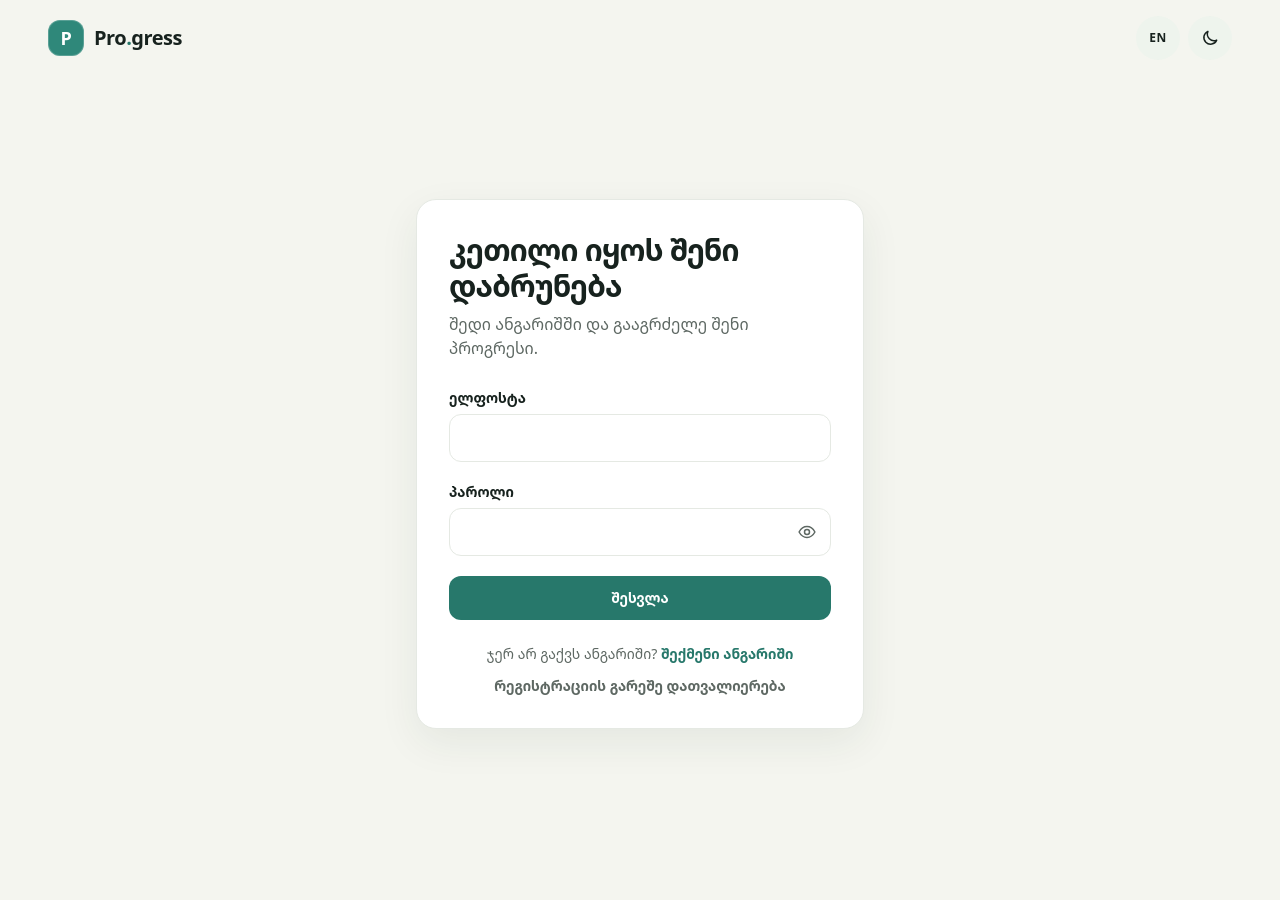
Test: sign in (US-2) › shows a generic error for wrong credentials
Expected: the heading "კეთილი იყოს შენი დაბრუნება" is shown, [449,229,739,306]
Type "giorgi@example.com" into the field labelled "ელფოსტა" at [640, 438], box [449,414,831,462]
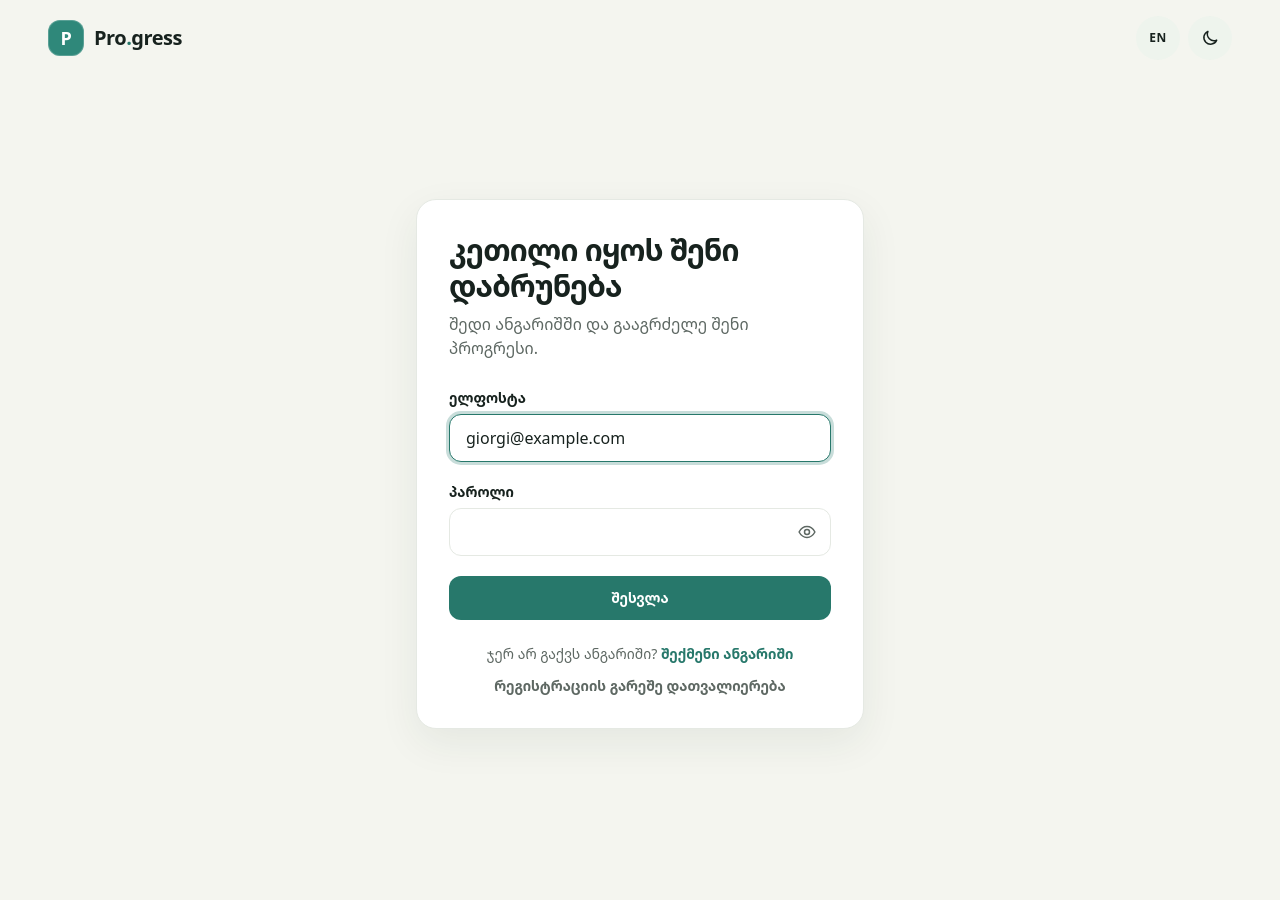
Type "wrong-pass1" into the password field labelled "პაროლი" at [640, 532], box [449,508,831,556]
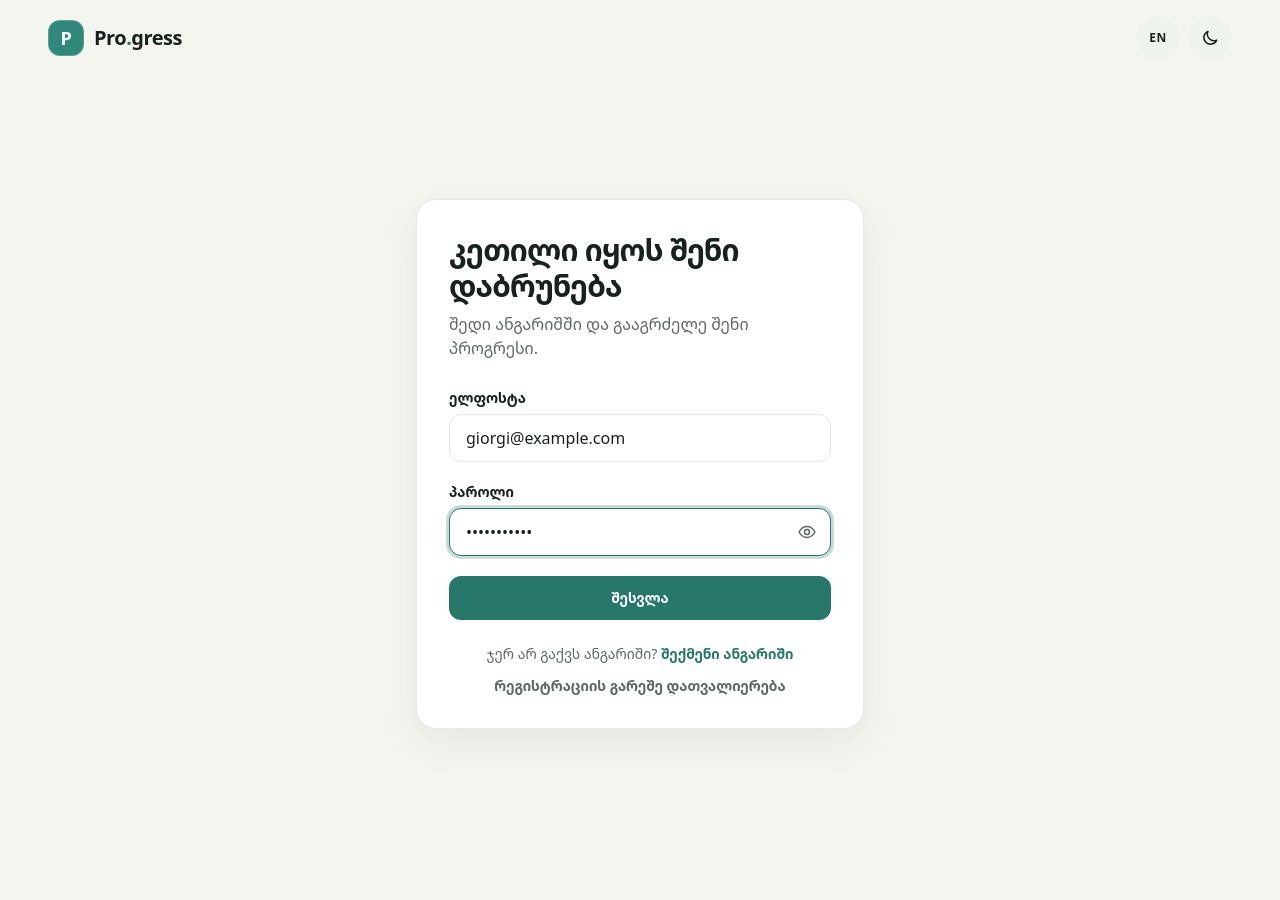
Click the button "შესვლა" at [640, 598], box [449,576,831,620]
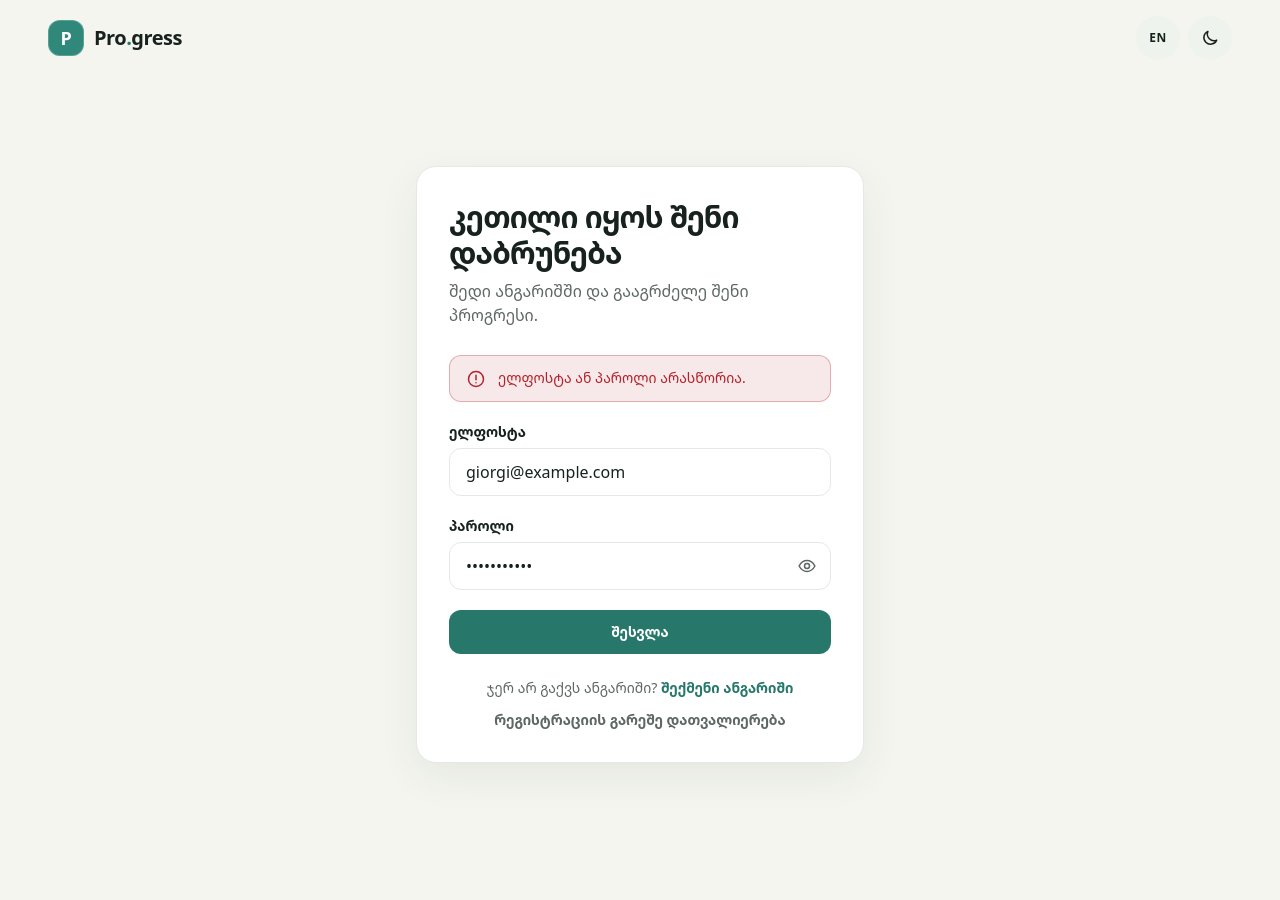
Now the message reads "ელფოსტა ან პაროლი არასწორია.", box [498,368,746,386]
